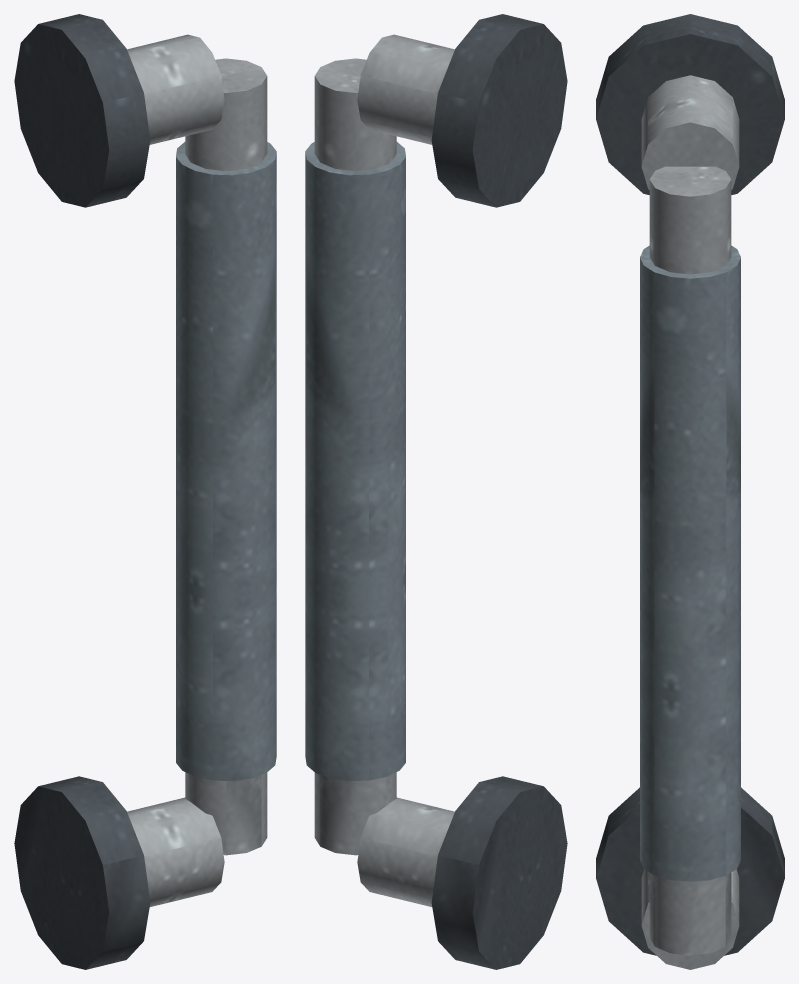
Rendered from prop_grab_handle.fbx.
3 renders of one model, left to right at view 1: azimuth 30°, elevation 25°; view 2: azimuth 150°, elevation 25°; view 3: azimuth 270°, elevation 25°, orthographic.
Visible parts, largest first — view 1: SM_prop_grab_handle; view 2: SM_prop_grab_handle; view 3: SM_prop_grab_handle.
Part boxes in pixels (x1,y1,x2,y2): SM_prop_grab_handle: [14, 14, 276, 969]; SM_prop_grab_handle: [305, 14, 567, 969]; SM_prop_grab_handle: [596, 14, 784, 969].
Size of the model in its own units: 0.1116 by 0.478 by 0.088.
3 materials, 3 textured.
